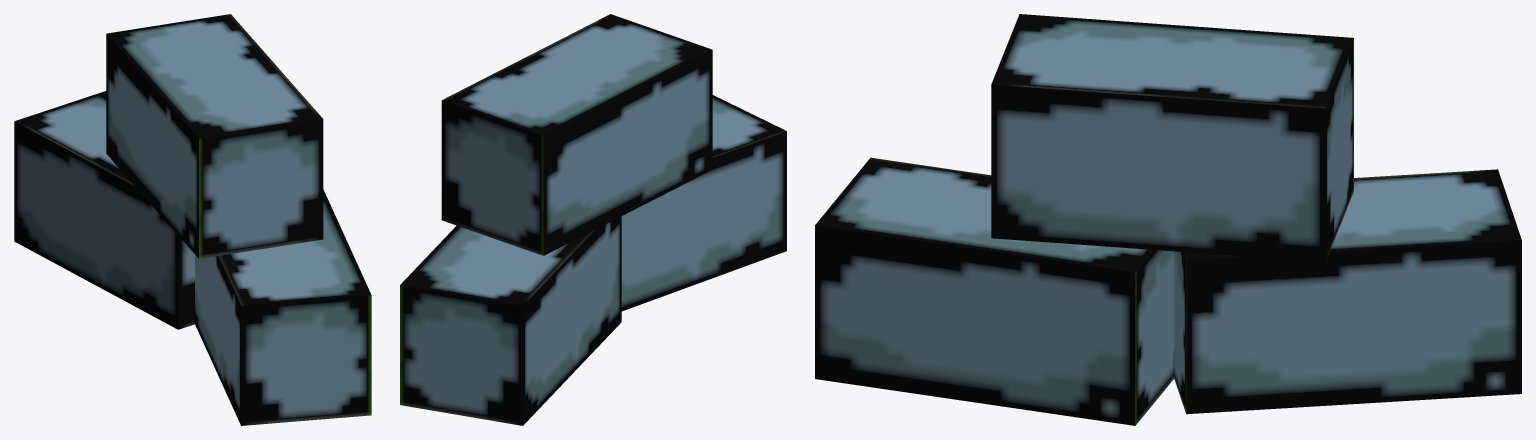
File: deco_wallBroken_A.FBX
3 renders of one model, left to right at view 1: azimuth 30°, elevation 25°; view 2: azimuth 150°, elevation 25°; view 3: azimuth 270°, elevation 25°, orthographic. The views are drawn at different scales.
Visible parts, largest first — view 1: deco_wallBroken_A; view 2: deco_wallBroken_A; view 3: deco_wallBroken_A.
Part boxes in pixels (left/top/right/bottom): deco_wallBroken_A: left=14, top=14, right=371, bottom=425; deco_wallBroken_A: left=400, top=14, right=786, bottom=425; deco_wallBroken_A: left=815, top=14, right=1521, bottom=425.
Size of the model in its own units: 0.8 by 1 by 2.08.
Materials: 1 (1 with a texture image).
